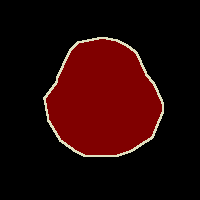hat: (44, 37, 163, 156)
